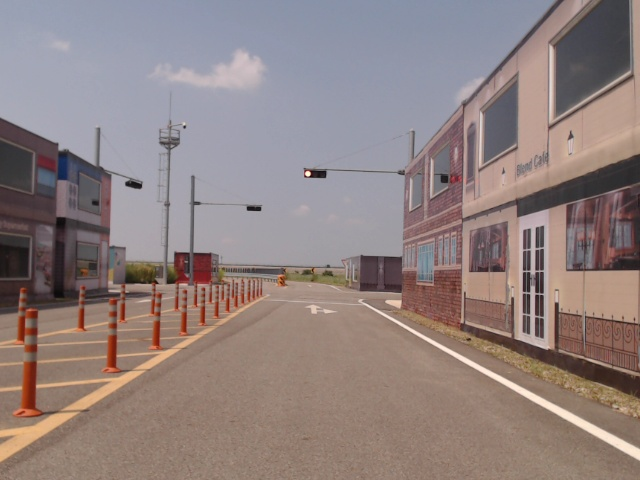red_3: (304, 170, 326, 178)
